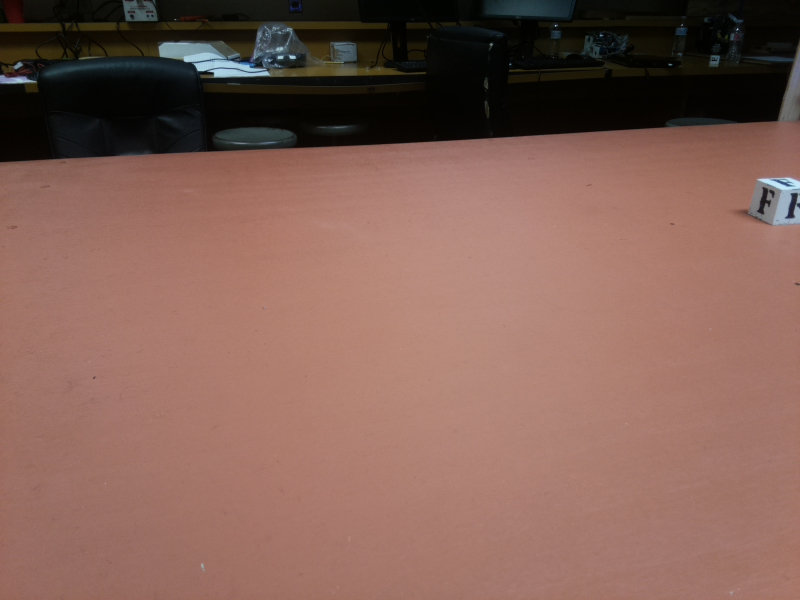blockF: (746, 176, 800, 231)
corner: (775, 48, 800, 128)
